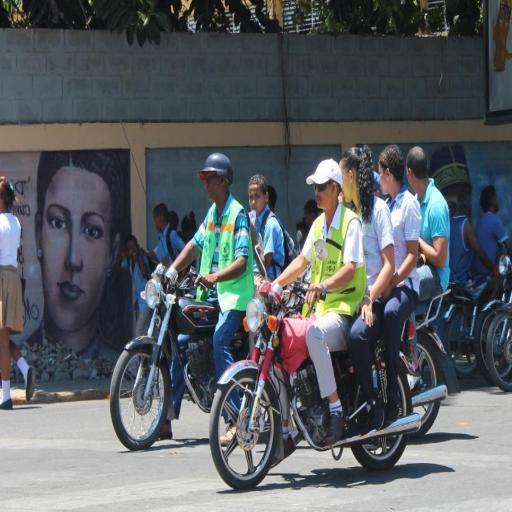helmet: (187, 131, 248, 233)
no helmet: (303, 157, 346, 223)
triple riding: (296, 140, 416, 385)
